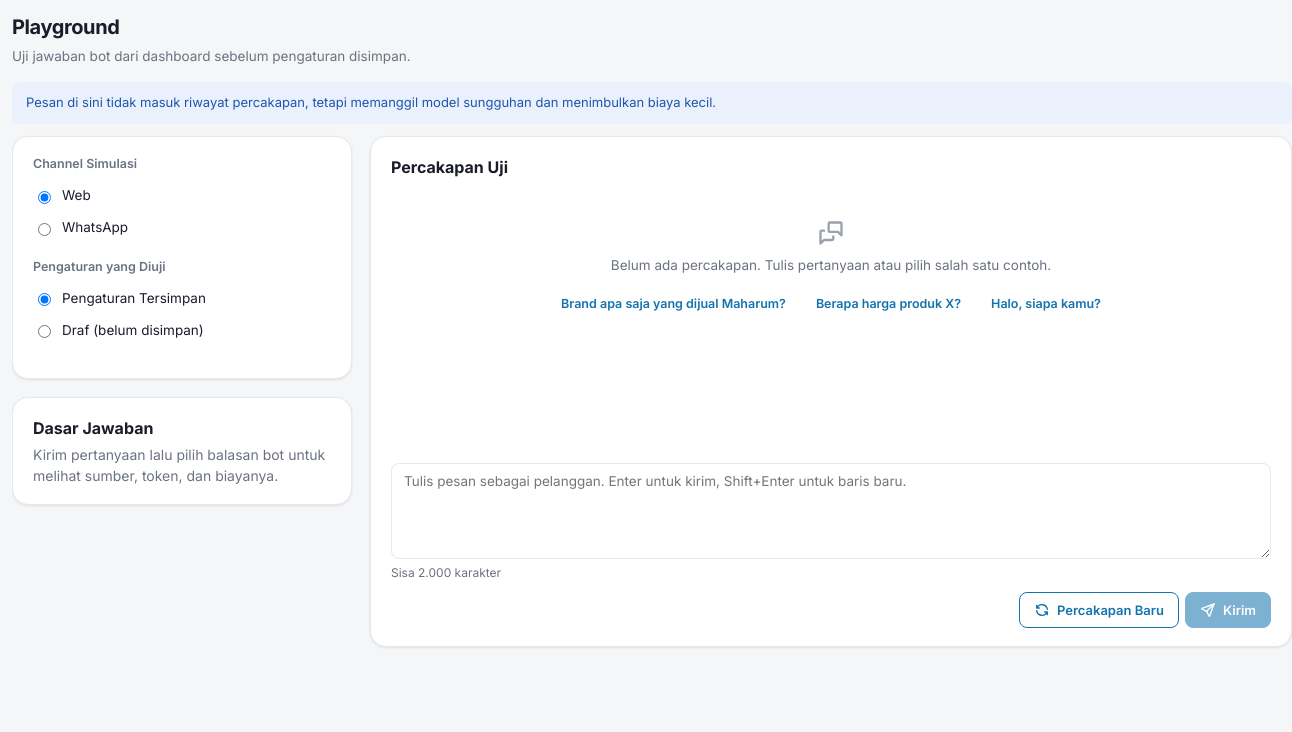
Test: Halaman Playground › mengirim giliran sebelumnya sebagai riwayat pada pesan berikutnya
The width and height of the screenshot is (1292, 732).
In the text box named "Pesan Uji": {"x": 831, "y": 511} x1=391 y1=463 x2=1271 y2=559, type "Pertanyaan satu"
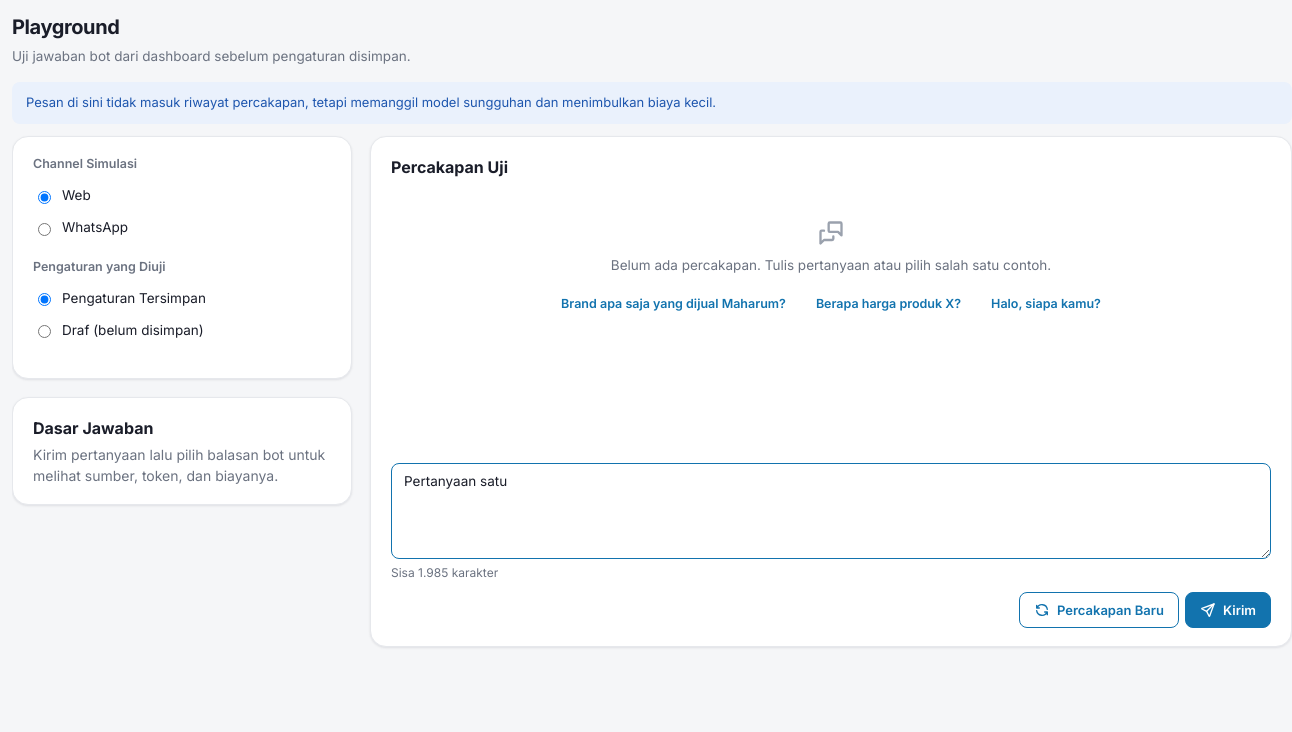
Click the button "Kirim": {"x": 1228, "y": 610} x1=1185 y1=592 x2=1271 y2=628
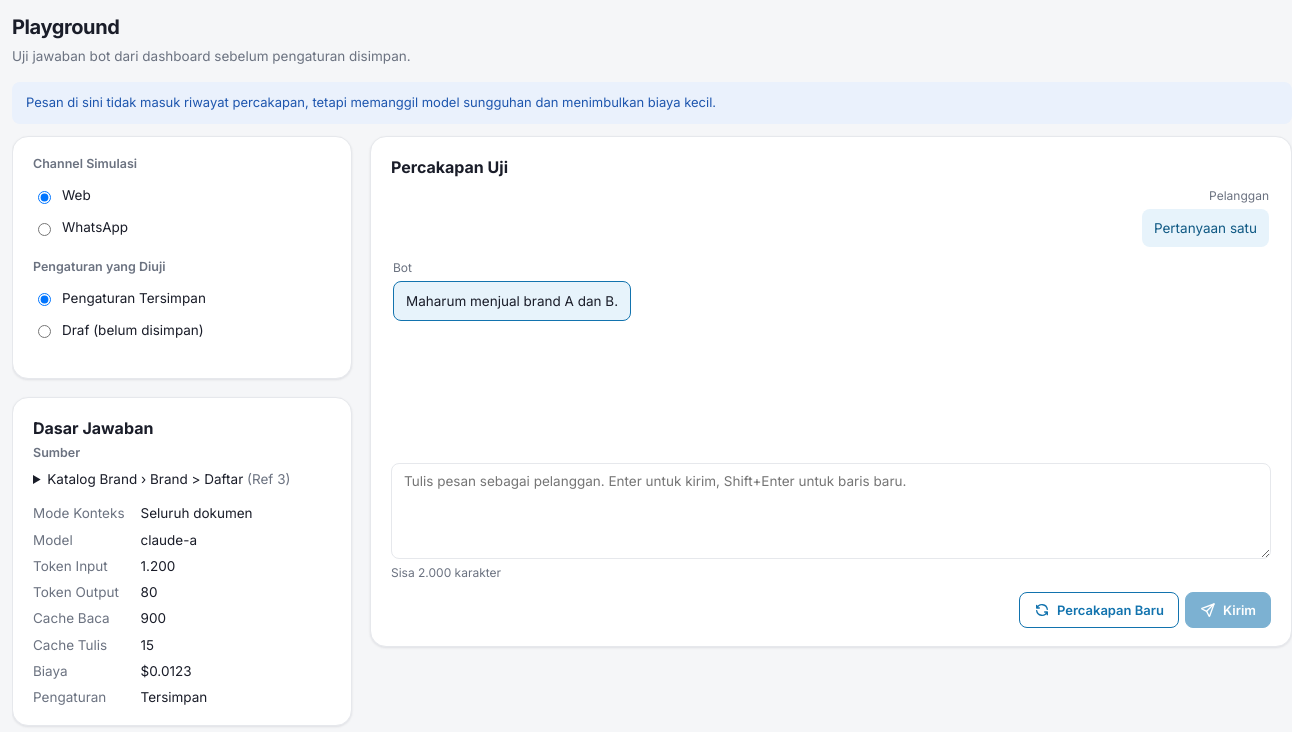
Now the button "Maharum menjual brand A dan B." is shown, box x1=393 y1=281 x2=631 y2=321
In the text box named "Pesan Uji": {"x": 831, "y": 511} x1=391 y1=463 x2=1271 y2=559, type "Pertanyaan dua"
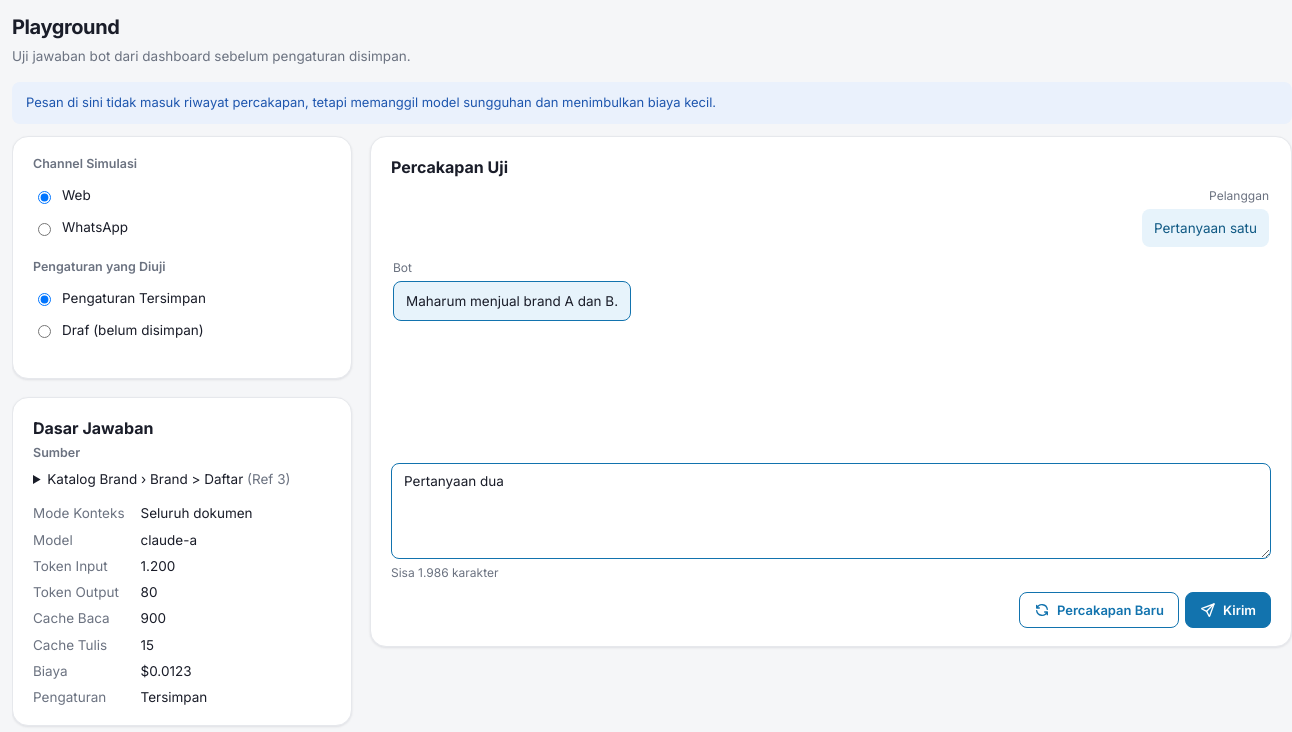
Click the button "Kirim": {"x": 1228, "y": 610} x1=1185 y1=592 x2=1271 y2=628
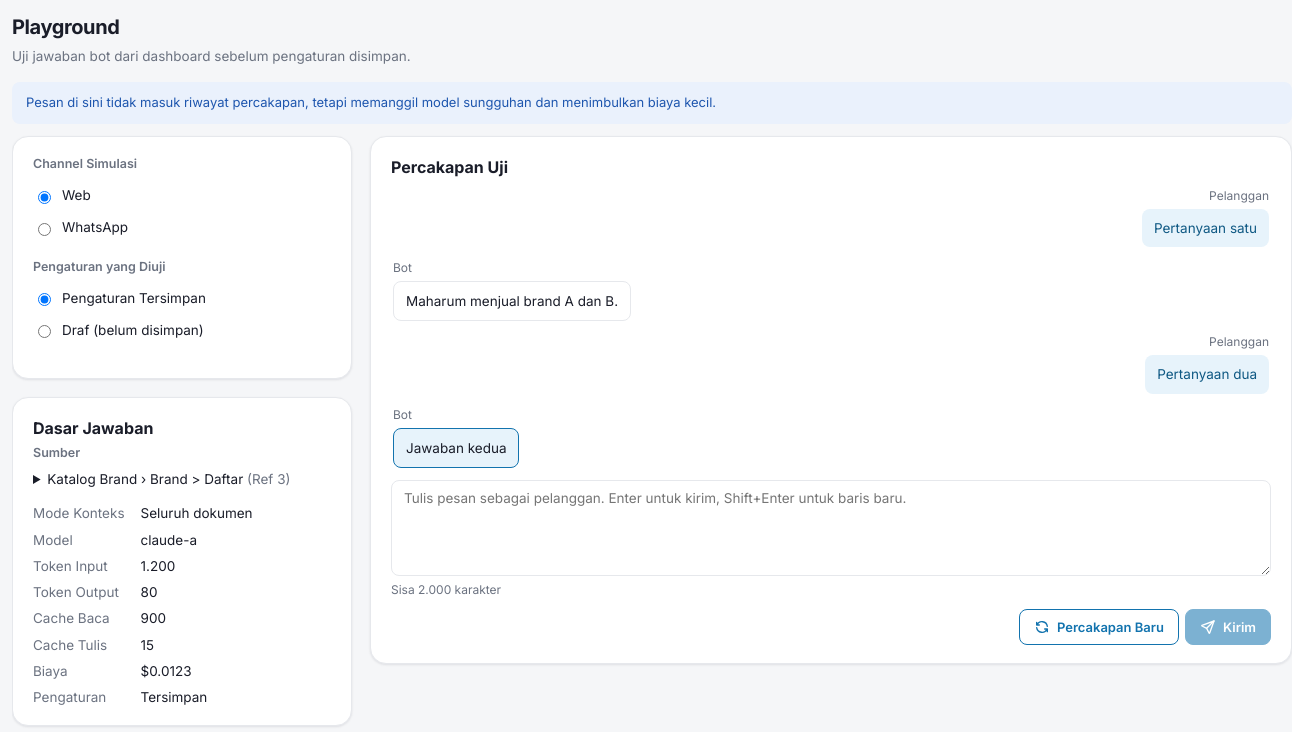
Now the button "Jawaban kedua" is shown, box x1=393 y1=428 x2=520 y2=468
